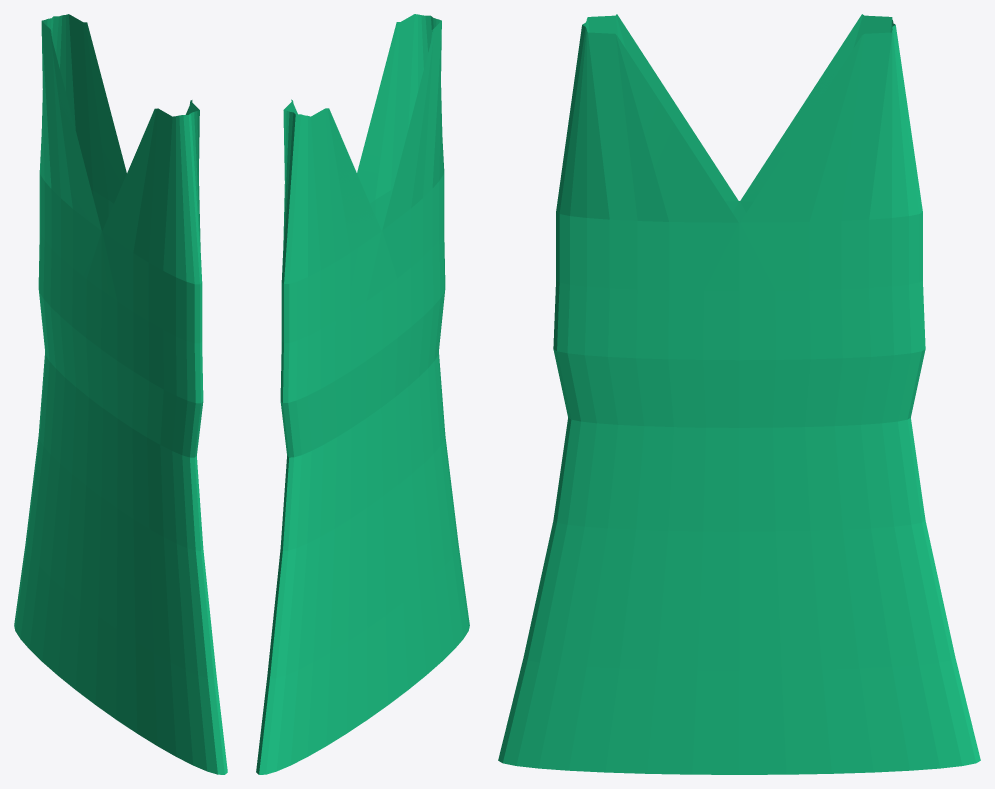
File: Dress_9.fbx
The picture shows the model from 3 angles, left to right: view 1: azimuth 30°, elevation 25°; view 2: azimuth 150°, elevation 25°; view 3: azimuth 270°, elevation 25°; orthographic projection. The views are drawn at different scales.
Visible parts, largest first — view 1: Plane.002; view 2: Plane.002; view 3: Plane.002.
Part boxes in pixels (<box>): Plane.002: <box>14,14,227,774</box>; Plane.002: <box>256,14,469,774</box>; Plane.002: <box>498,14,980,774</box>.
Size of the model in its own units: 18.03 by 215 by 128.
